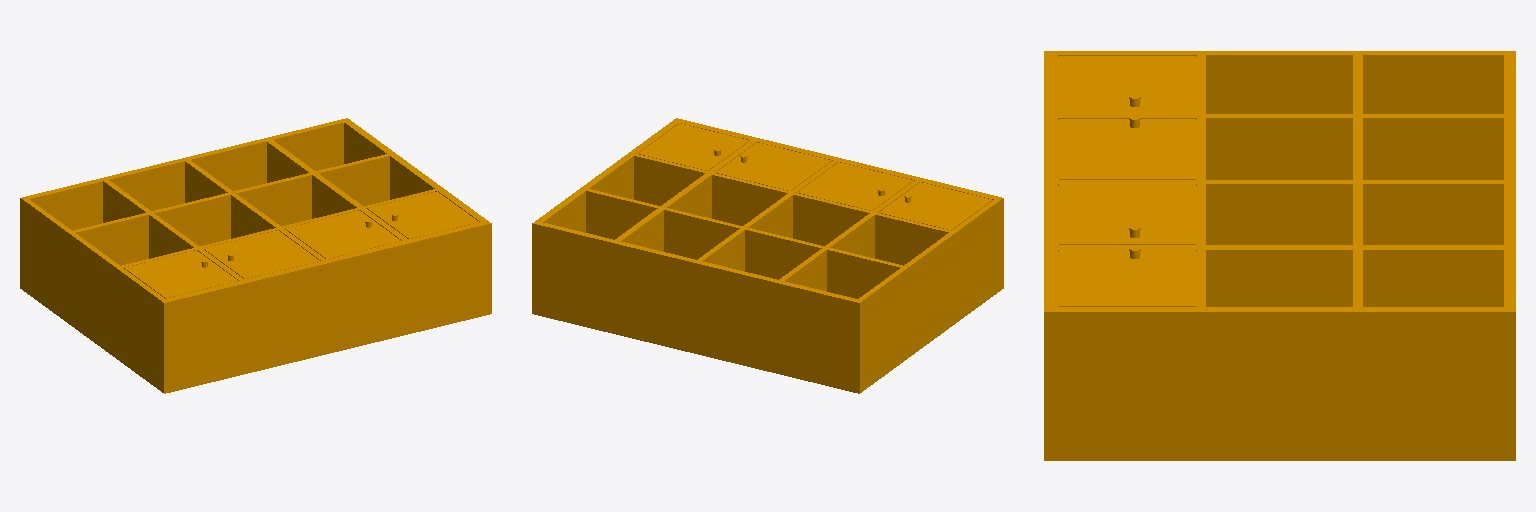
URDF robot description (none):
<robot name="none">
       <link name="none">
           <visual>
               <origin xyz="0 0 0" />
               <geometry>
                   <mesh filename="Skrinka 2 With back OBJ.obj"  scale="1 1 1" />
               </geometry>
           </visual>
          <collision>
<origin rpy="1.57 0 0" xyz="0 0 0.5" />
              <geometry>
                  <box size="1.425899 1.000000 0.516547" />
              </geometry>
          </collision>

          <inertial>
            <mass value="0.0" />
            <inertia ixx="0.05" ixy="0.0" ixz="0.0" iyy="0.05" iyz="0.0" izz="0.05"/>
          </inertial>
      </link>
  </robot>

--- What the picture shows (computed from the rendered views, not written in the file) ---
3 views of the same robot in one strip: view 1: azimuth 30°, elevation 25°; view 2: azimuth 150°, elevation 25°; view 3: azimuth 270°, elevation 25° (orthographic).
Robot: none — 1 links, 0 joints (none); root link none; default pose: every joint at zero.
Links seen in each view (by area): view 1: none; view 2: none; view 3: none.
Link boxes in pixels (bbox=[...]): none: bbox=[20, 118, 491, 393]; none: bbox=[532, 118, 1003, 393]; none: bbox=[1044, 51, 1515, 460].
Bounding box of the posed robot: 1.47 × 1.12 × 0.4134 m (x, y, z).
Meshes: 1 distinct files referenced, 1 mesh visuals loaded (1 OBJ).